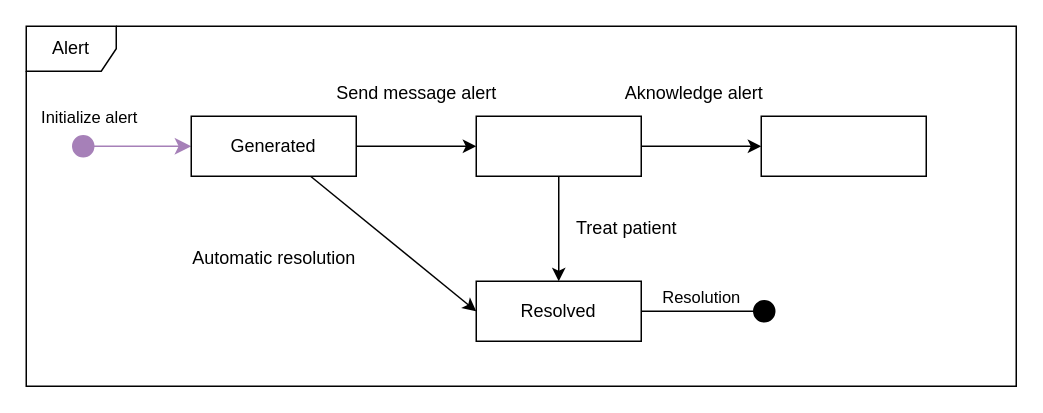
Some shapes in this 1043 by 413 pixel diagram are drawn without their labels. The centre of each missing label's shape, as x and y in pixels:
Acknowledged: (x=843, y=145)
Sent: (x=558, y=145)
